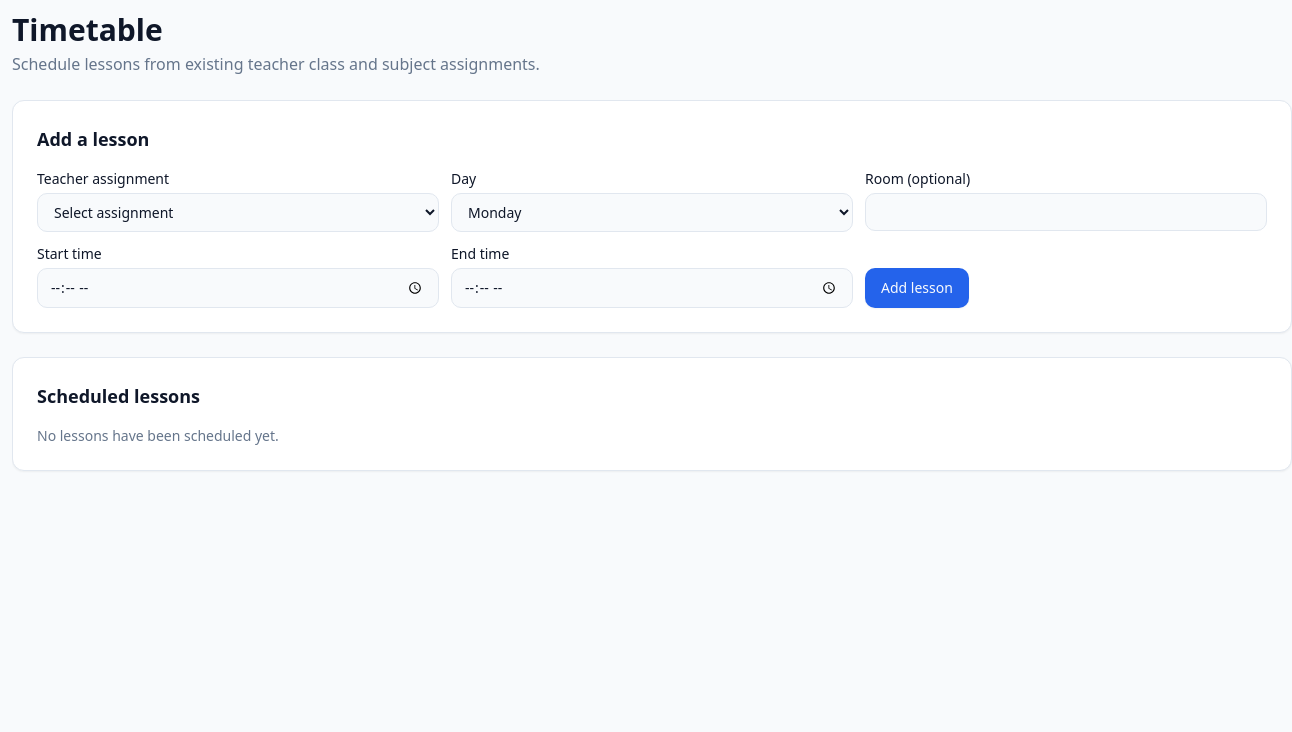
Scenario: ManagerTimetablePage › failed creation shows useful error and does not show success
The image size is (1292, 732).
Expected: the button "Add lesson" is shown, [865,268,969,308]
Select "jastine john · form 1 / A · kiswahili · 2025/26" in the dropdown labelled "Teacher assignment" at (238, 212), box [37,193,439,232]
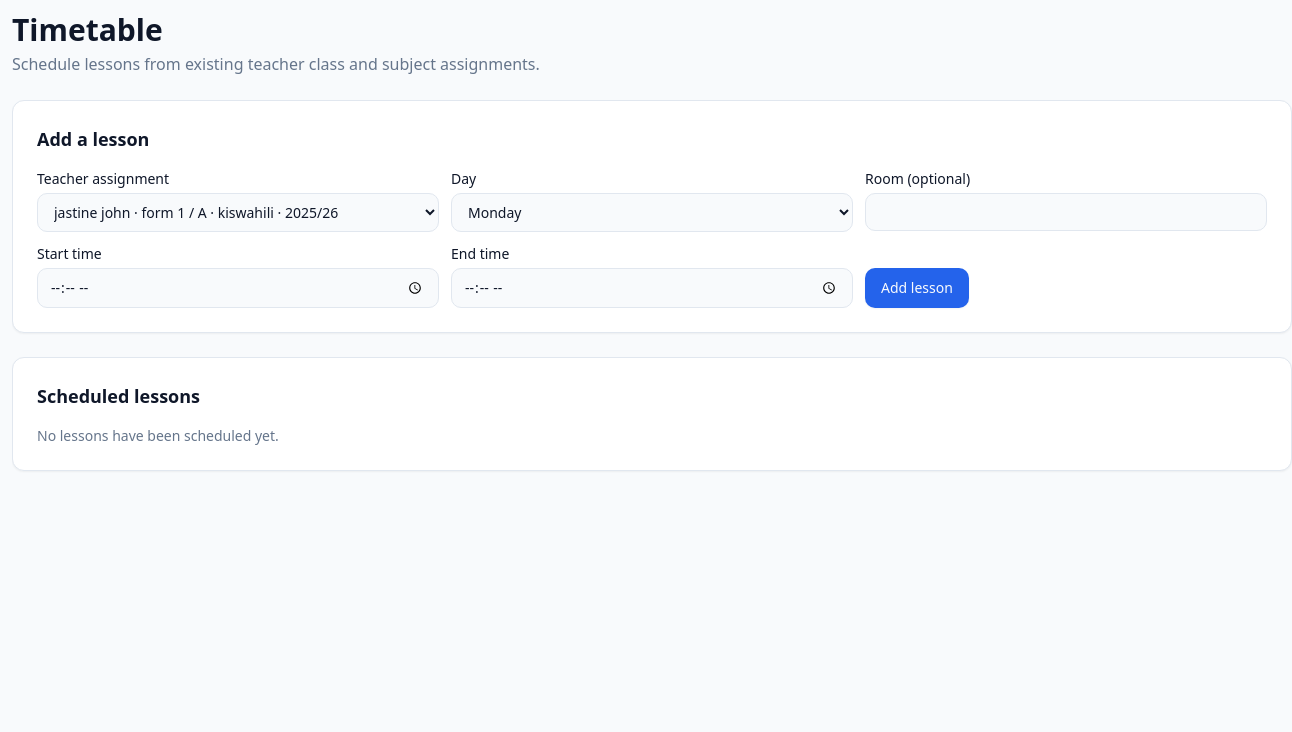
Type "04:54" into the time field labelled "Start time" at (238, 288), box [37,268,439,308]
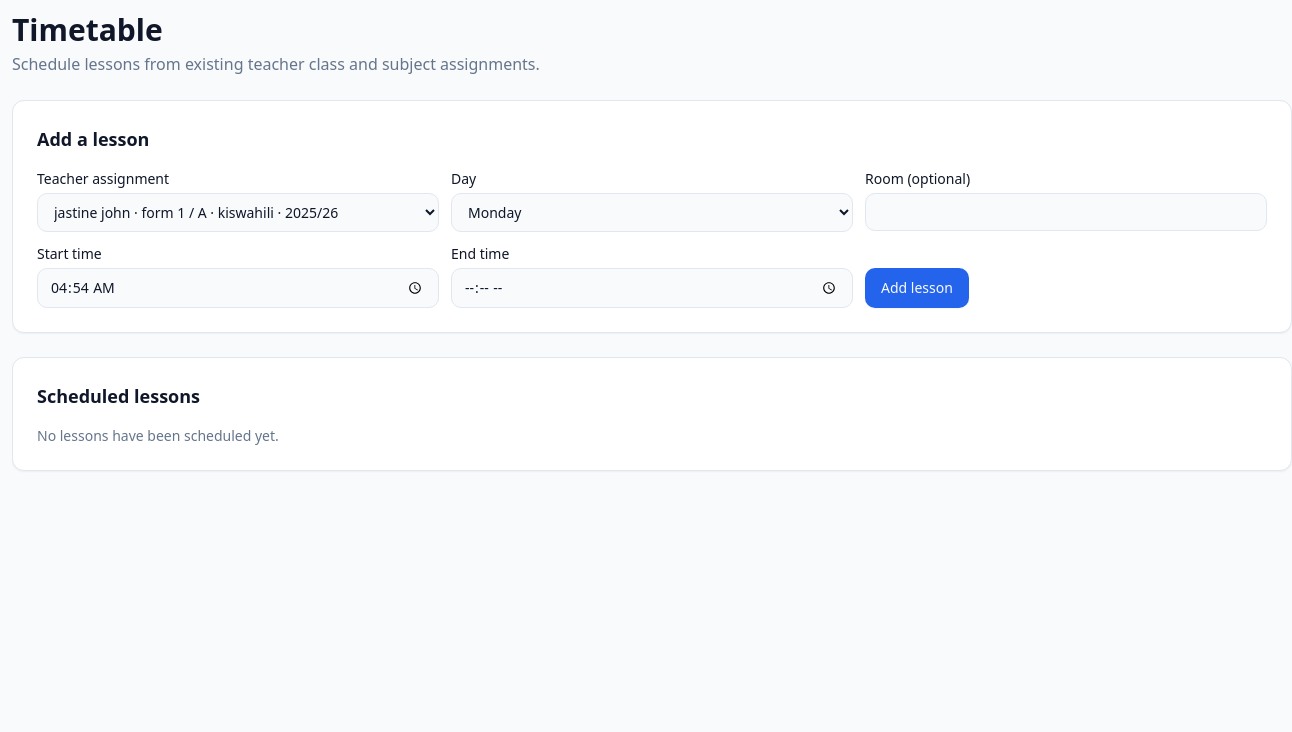
Type "05:22" into the time field labelled "End time" at (652, 288), box [451,268,853,308]
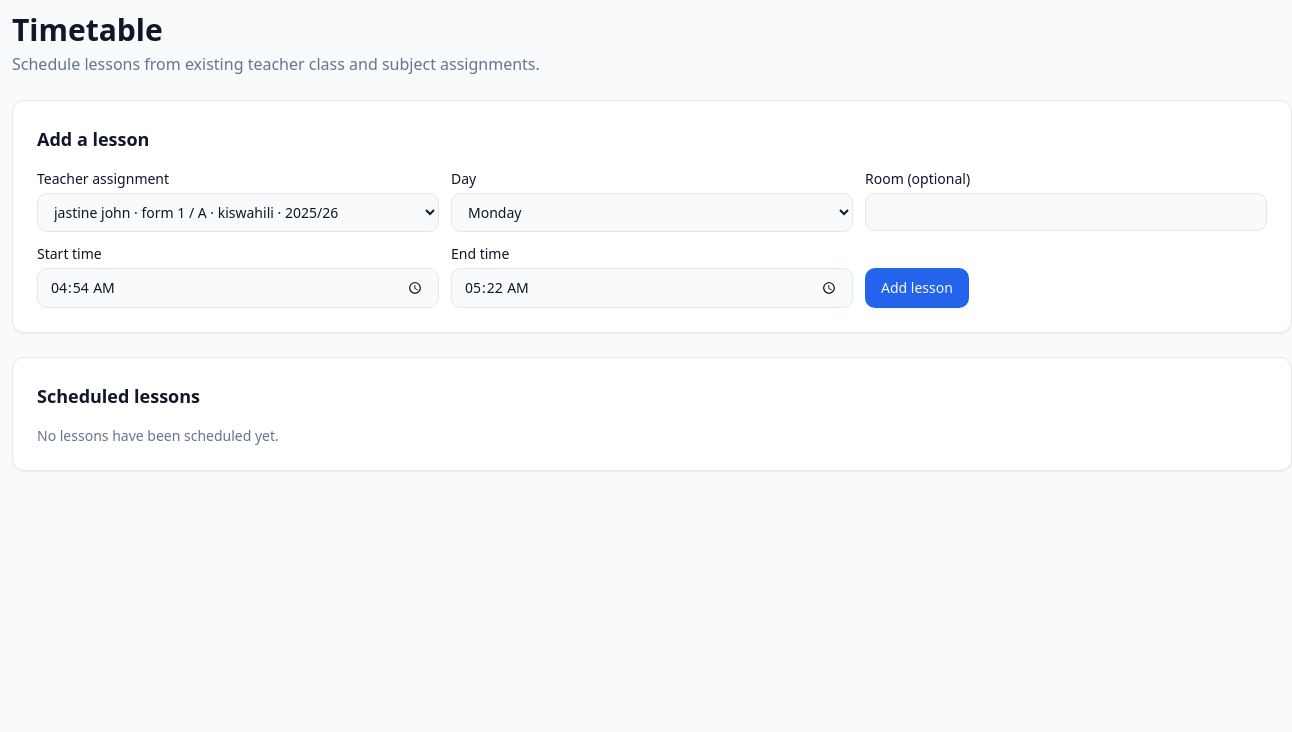
Submit the form "Teacher assignment", box [37,169,1267,308]
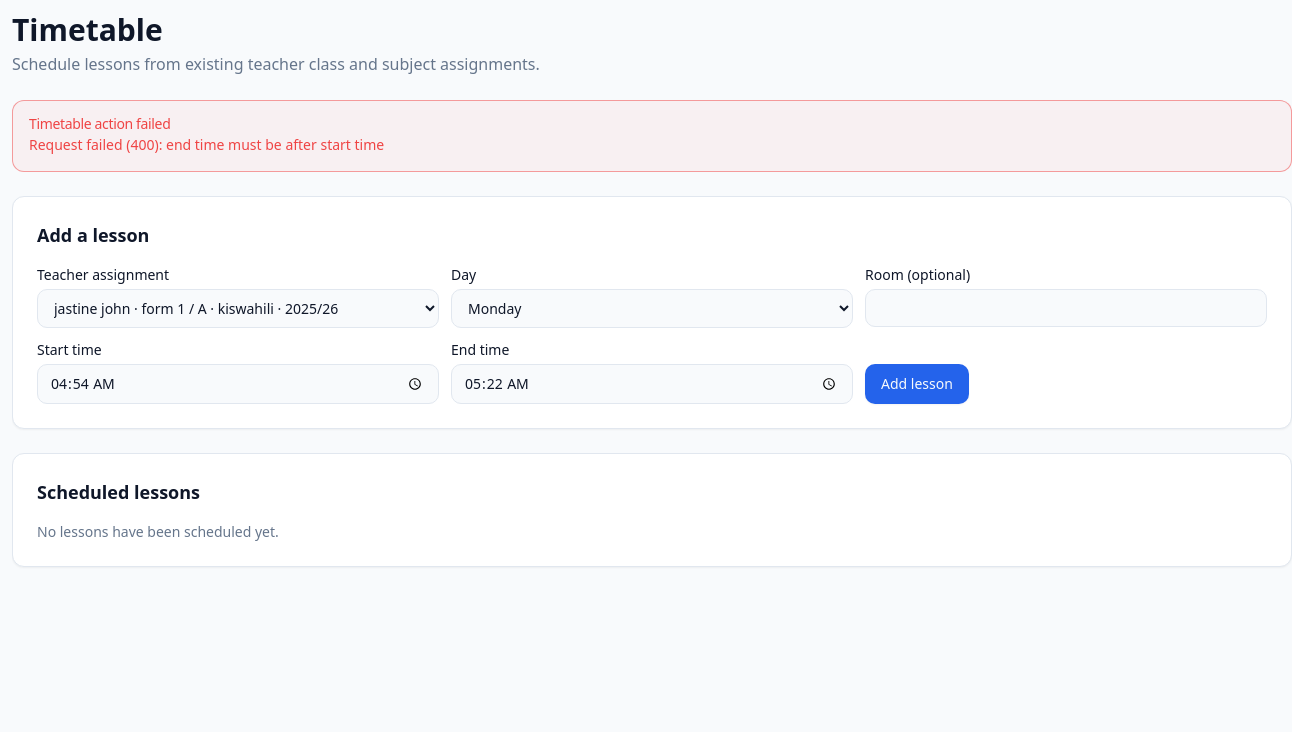
Result: the message is shown at [12,100,1291,172]
Result: the message shows "Request failed" at [29,135,384,154]
